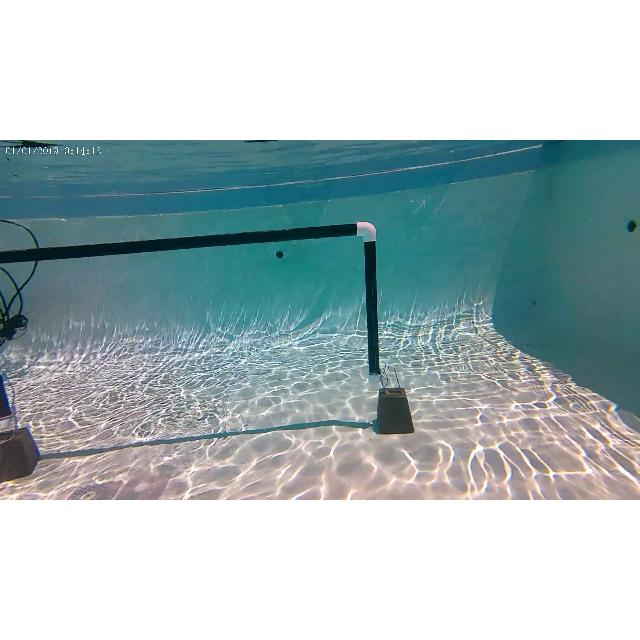prequal gate: (1, 222, 382, 430)
prequal gate leg l: (0, 362, 24, 435)
prequal gate leg r: (346, 216, 398, 396)
